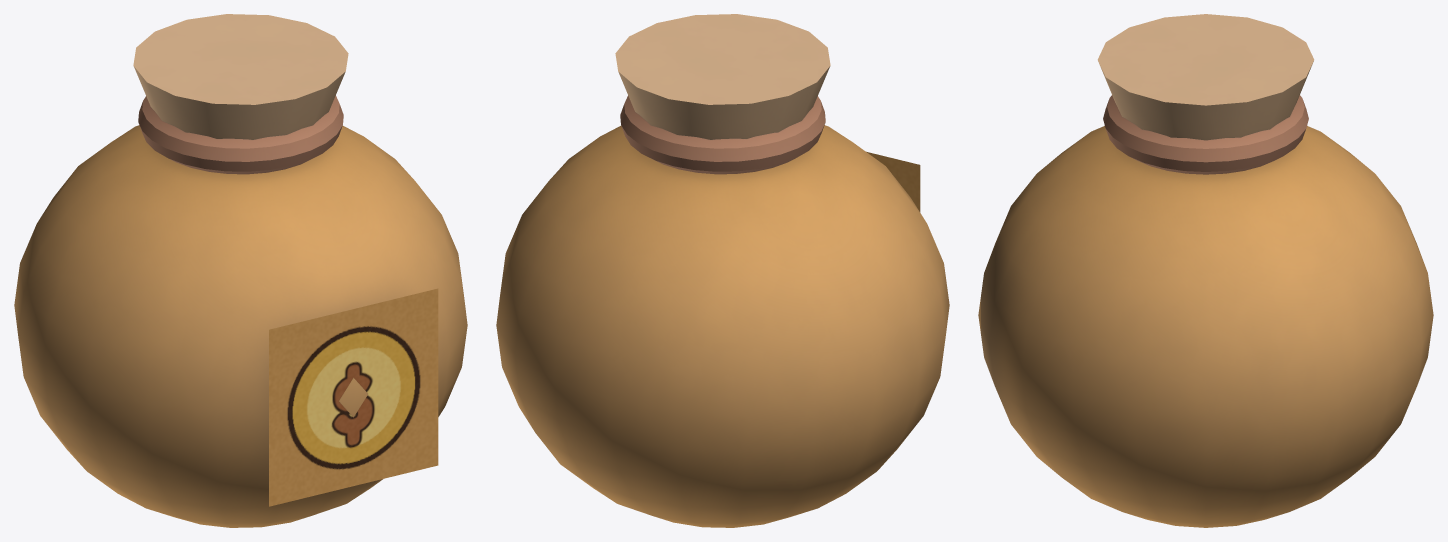
The model's file is MoneyBag.fbx.
3 renders of one model, left to right at view 1: azimuth 30°, elevation 25°; view 2: azimuth 150°, elevation 25°; view 3: azimuth 270°, elevation 25°, orthographic.
Visible parts, largest first — view 1: MoneyBag; view 2: MoneyBag; view 3: MoneyBag.
Part boxes in pixels (x1,y1,x2,y2): MoneyBag: [14, 14, 467, 527]; MoneyBag: [496, 14, 949, 527]; MoneyBag: [978, 14, 1433, 527].
Bounding box in the file's own units: 84 × 90.64 × 84.
